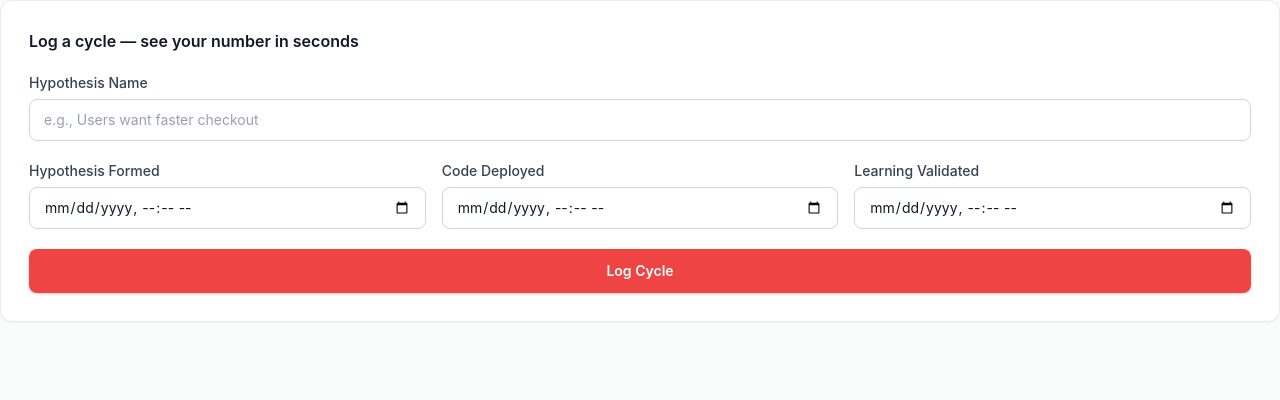
Test: CycleLogger › submitting with missing timestamps shows validation message
In the field labelled "Hypothesis Name": {"x": 640, "y": 120} [29,99,1251,141], type "Test"
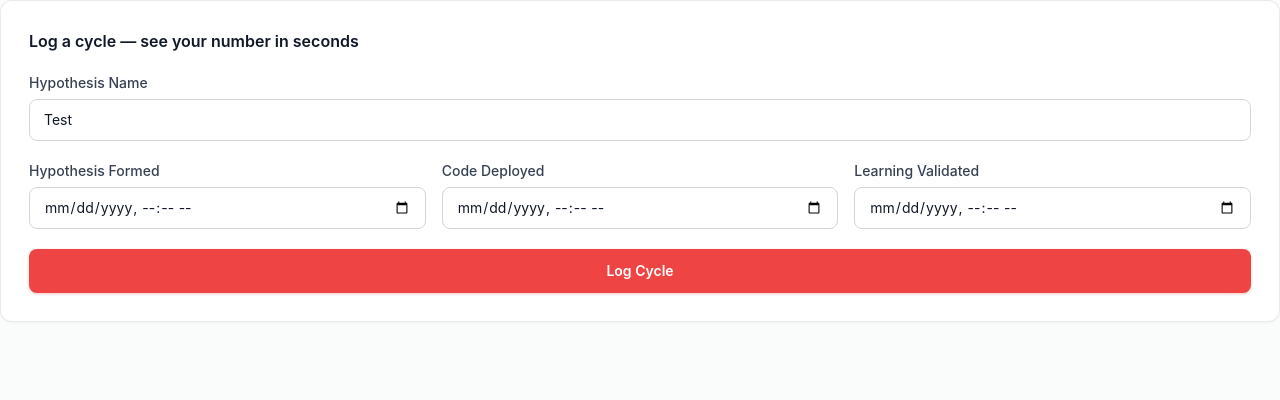
Click the button "Log Cycle": {"x": 640, "y": 271} [29,249,1251,293]
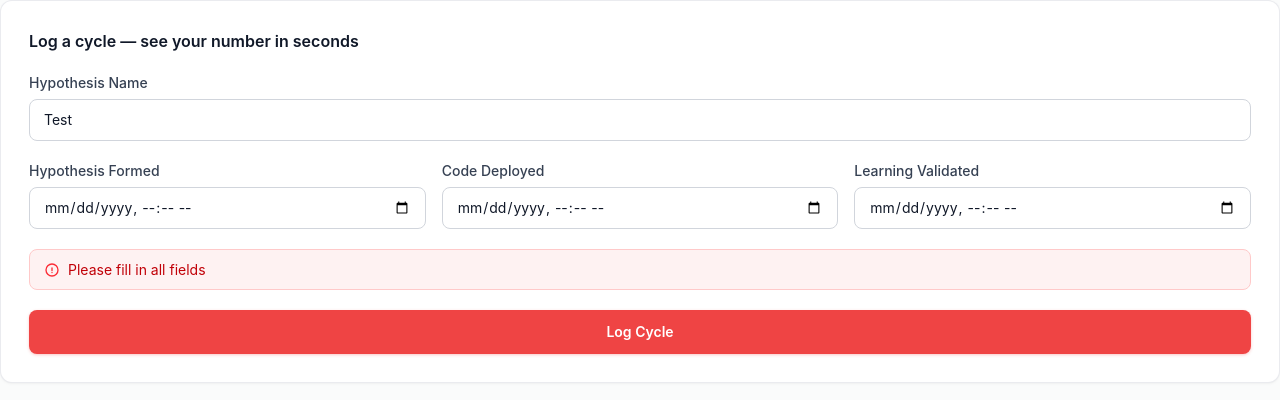
Expected: the text "Please fill in all fields" is shown, [68,260,206,279]
